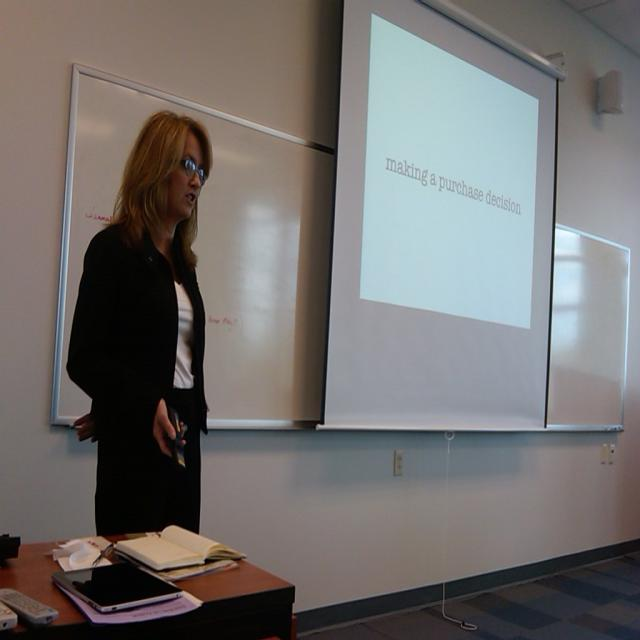desk: (2, 540, 294, 636)
person: (66, 112, 214, 535)
tv: (322, 4, 563, 435)
